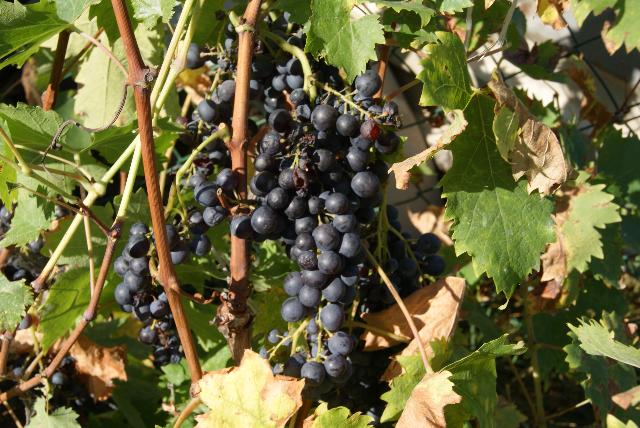grapes: (249, 64, 400, 390), (114, 222, 184, 366), (382, 232, 445, 299), (166, 209, 211, 265), (365, 275, 395, 311)
